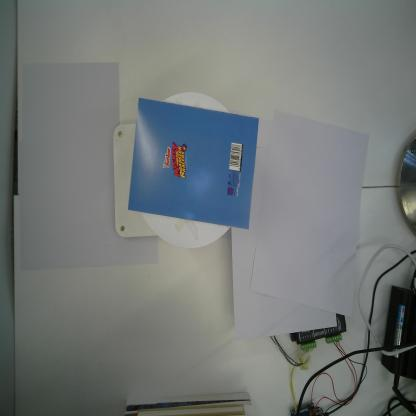Stationery: (127, 98, 259, 230)
